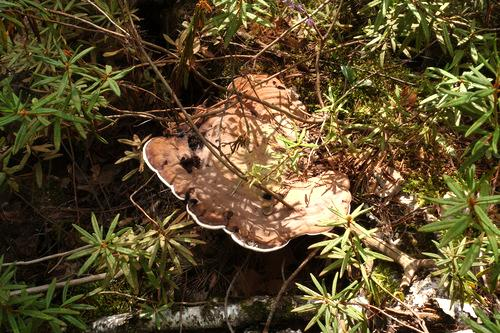Ganoderma - Fruit Body: (142, 71, 351, 252)
